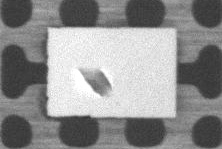DIE_INK: (76, 65, 110, 96)
